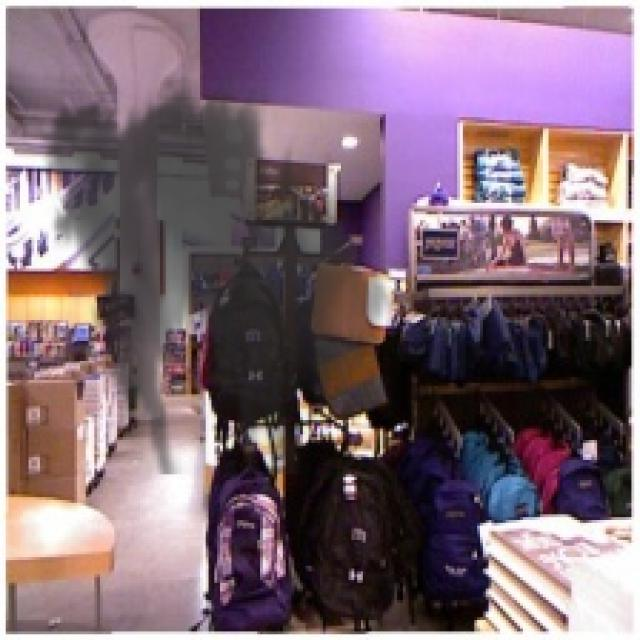smoke: (26, 66, 400, 474)
